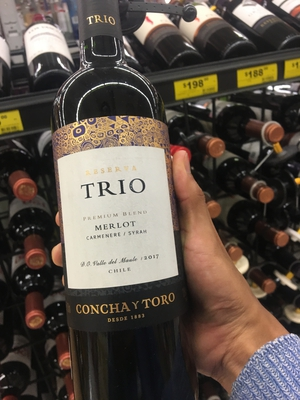trio merlot: (34, 45, 194, 382)
